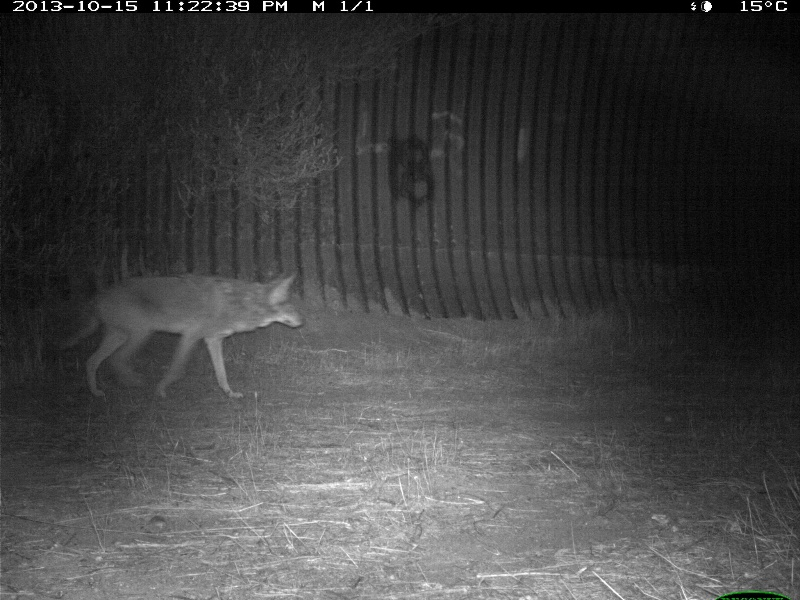coyote: (50, 267, 311, 401)
